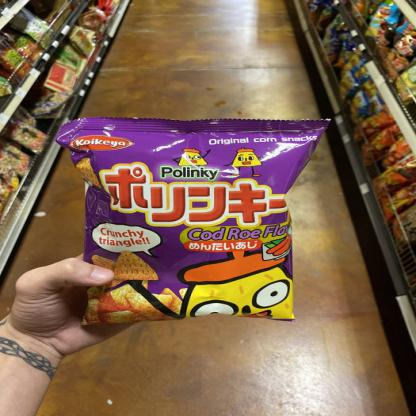potatochip: (48, 111, 340, 325)
